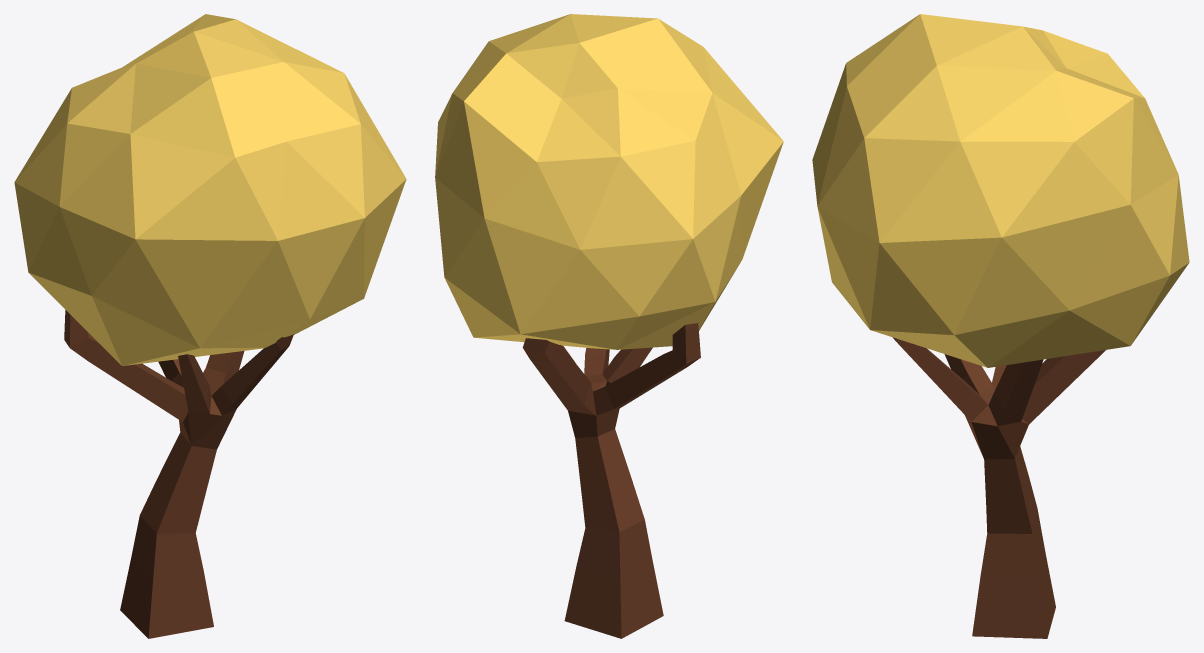
Rendered from LemonTree5.fbx.
3 renders of one model, left to right at view 1: azimuth 30°, elevation 25°; view 2: azimuth 150°, elevation 25°; view 3: azimuth 270°, elevation 25°, orthographic. The views are drawn at different scales.
Parts seen in each view (by area): view 1: LemonTree5; view 2: LemonTree5; view 3: LemonTree5.
Part boxes in pixels (x1,y1,x2,y2): LemonTree5: (14,14,406,638); LemonTree5: (435,14,783,638); LemonTree5: (812,14,1189,638).
Size of the model in its own units: 251 by 455 by 254.
